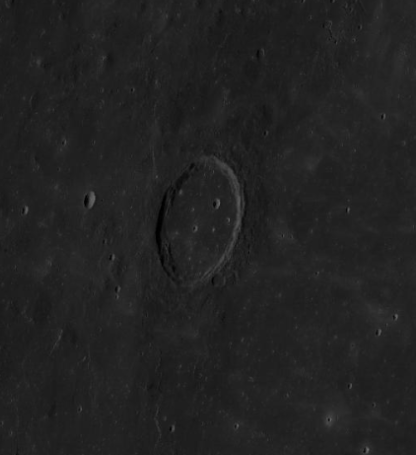crater: (131, 109, 300, 336)
